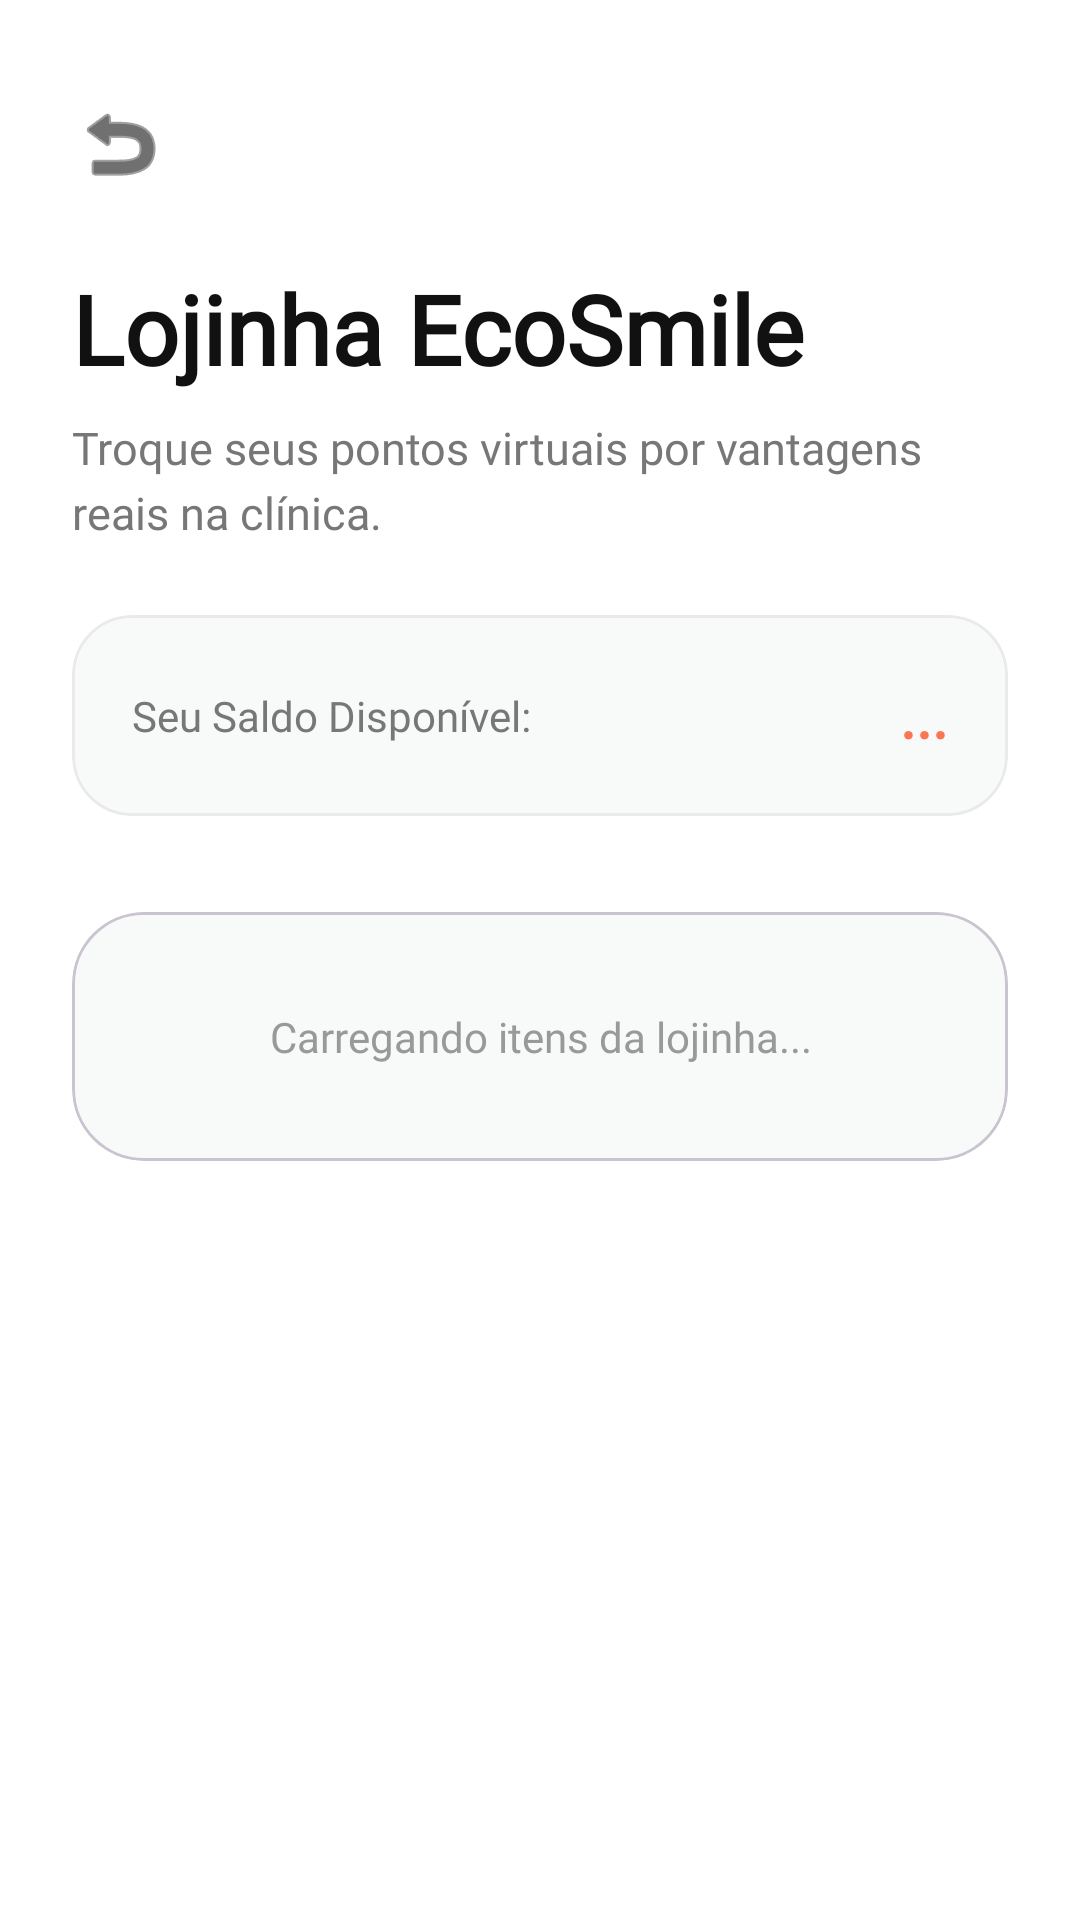

Icon click points for this 1080x1920 phone screenshot, format (x,y):
revert: (121,144)
